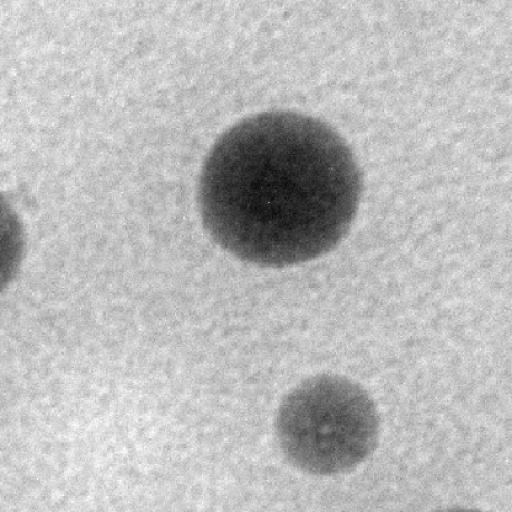Nanoparticles: (195, 108, 366, 272), (270, 370, 388, 476), (0, 181, 27, 297)
